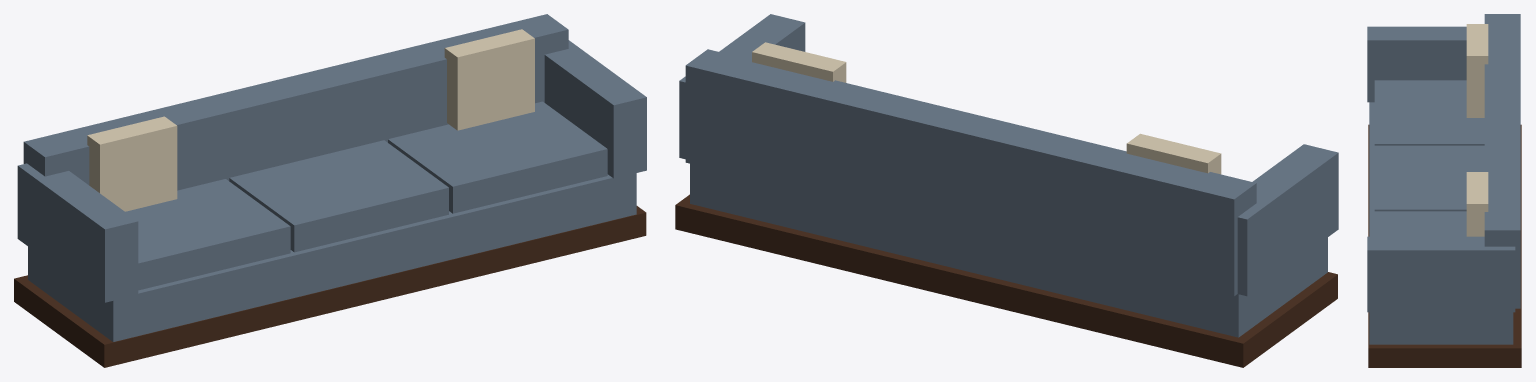
The model's file is sofa.glb.
3 views of the same model, side by side, from view 1: azimuth 30°, elevation 25°; view 2: azimuth 150°, elevation 25°; view 3: azimuth 270°, elevation 25° (orthographic). The views are drawn at different scales.
Parts seen in each view (by area): view 1: sofa; view 2: sofa; view 3: sofa.
Part boxes in pixels (x1,y1,x2,y2): sofa: (14,14,646,367); sofa: (675,14,1338,367); sofa: (1367,14,1521,367).
Bounding box in the file's own units: 2.94 × 0.87 × 0.855.
